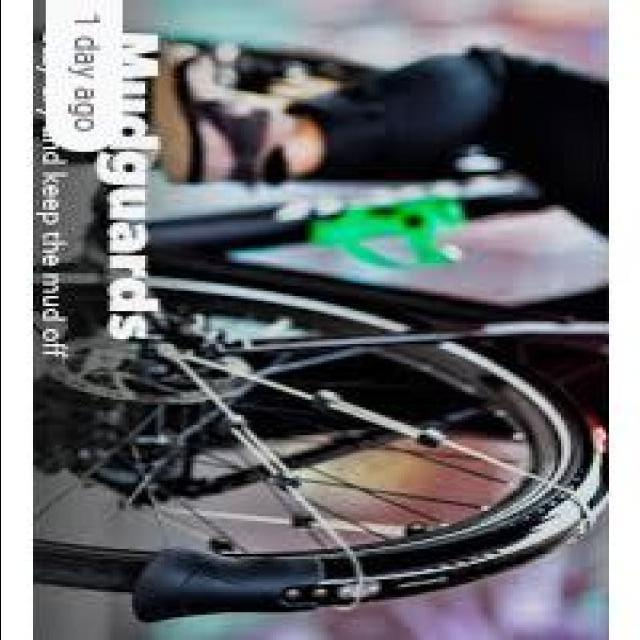bicycle: (42, 37, 605, 611)
